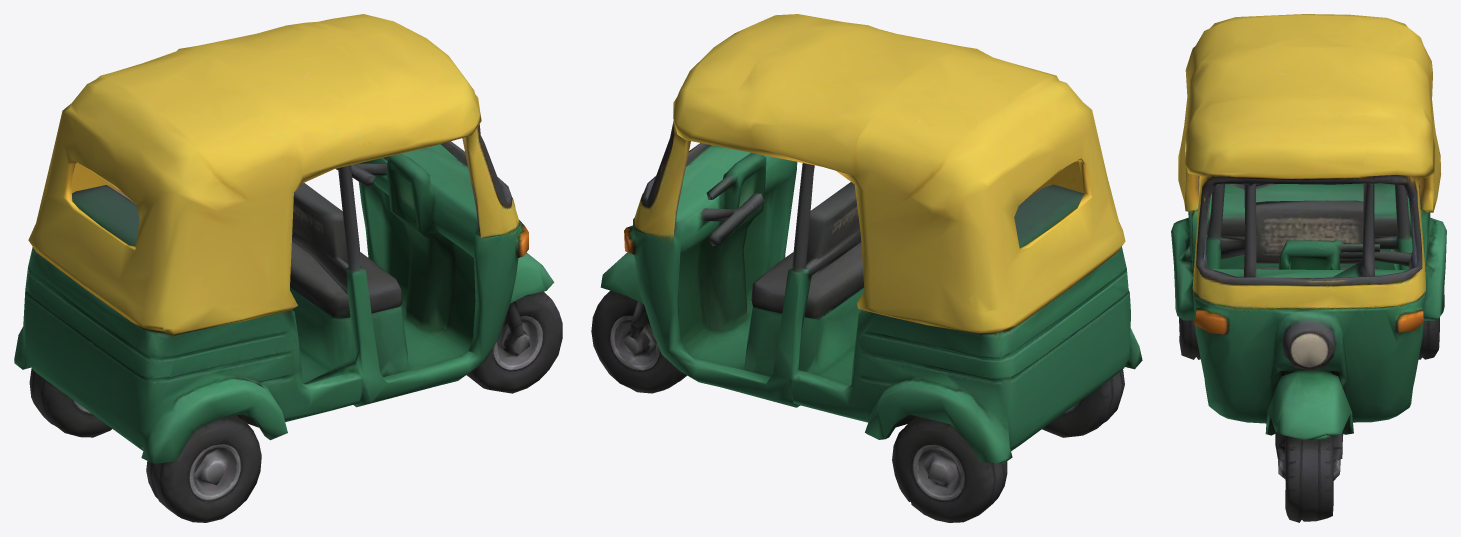
The model's file is street-auto-rickshaw.glb.
The picture shows the model from 3 angles, left to right: view 1: azimuth 30°, elevation 25°; view 2: azimuth 150°, elevation 25°; view 3: azimuth 270°, elevation 25°; orthographic projection. The views are drawn at different scales.
Parts seen in each view (by area): view 1: tripo_node_9bd5b68f-d2df-4401-a472-9c2c400c4b2b; view 2: tripo_node_9bd5b68f-d2df-4401-a472-9c2c400c4b2b; view 3: tripo_node_9bd5b68f-d2df-4401-a472-9c2c400c4b2b.
Part boxes in pixels (box(x1,y1,x2,y2)): tripo_node_9bd5b68f-d2df-4401-a472-9c2c400c4b2b: box(14, 14, 562, 522); tripo_node_9bd5b68f-d2df-4401-a472-9c2c400c4b2b: box(591, 14, 1142, 522); tripo_node_9bd5b68f-d2df-4401-a472-9c2c400c4b2b: box(1171, 14, 1446, 522).
Bounding box in the file's own units: 1 × 0.765 × 0.5463.
Materials: 1 (1 with a texture image).
